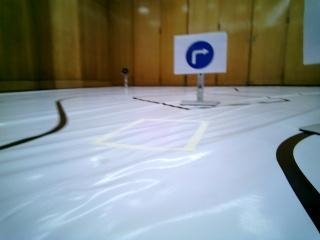right: (178, 39, 221, 73)
